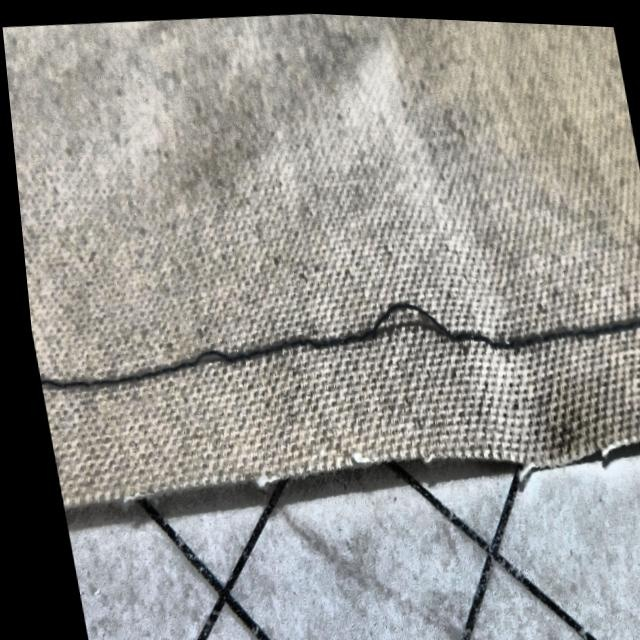Stitch: (339, 264, 467, 367), (176, 328, 245, 386)
